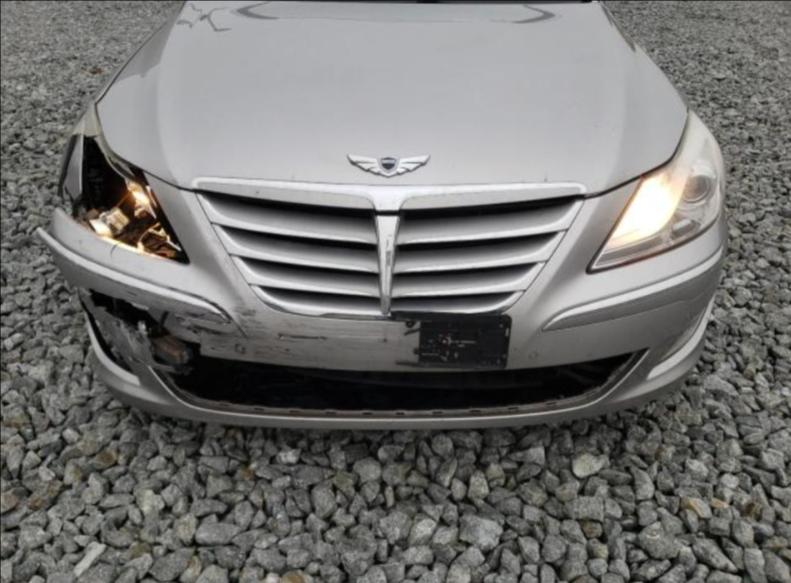Broken part: (32, 206, 726, 431), (54, 102, 189, 264)
Missing part: (180, 353, 633, 419), (234, 314, 510, 374), (78, 288, 180, 401)
Paint chip: (242, 188, 264, 198), (541, 173, 557, 183), (516, 177, 534, 185), (286, 173, 302, 181)
Scratch: (157, 300, 240, 359), (108, 240, 120, 260), (185, 310, 208, 317), (124, 288, 136, 295)
